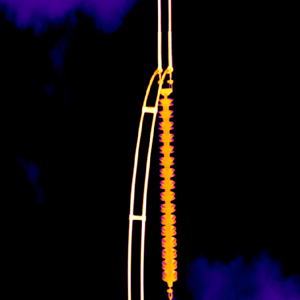insulator: (158, 93, 176, 284)
